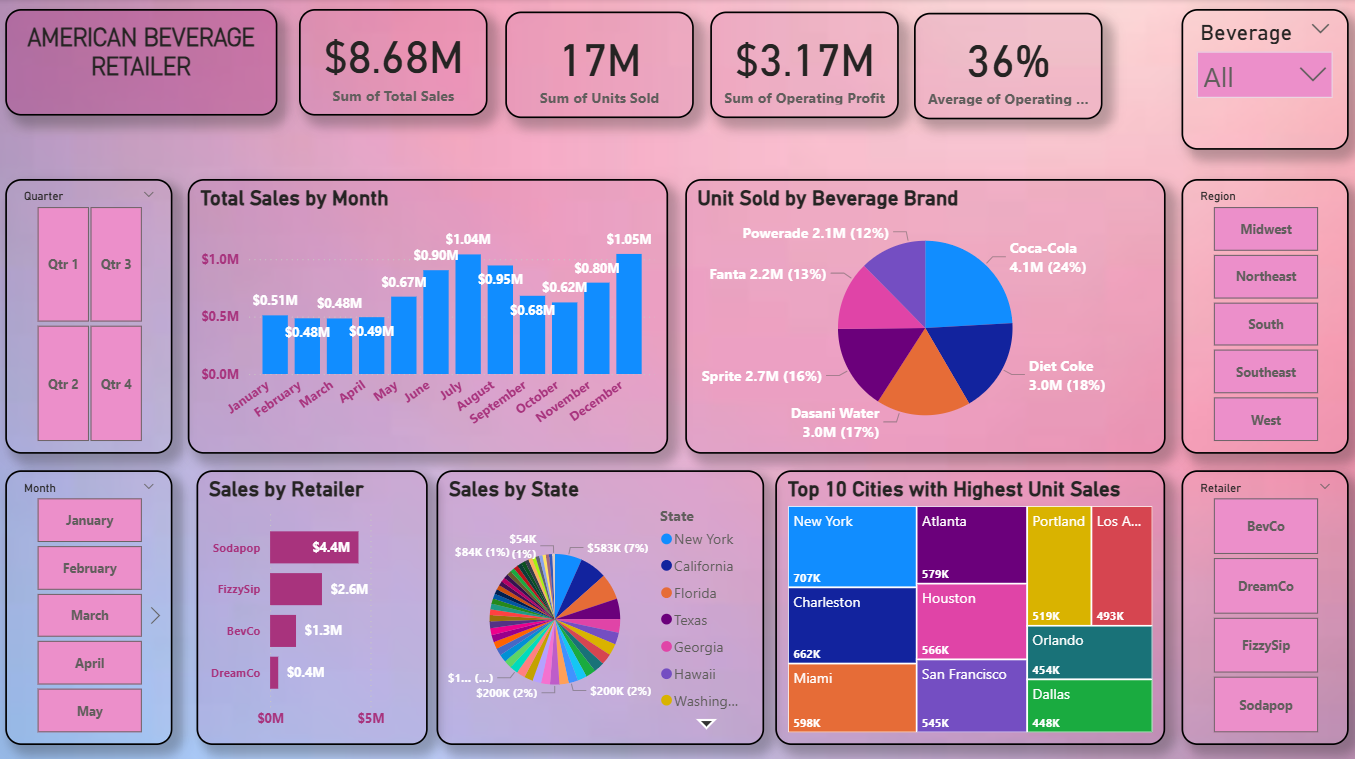

The dashboard page shown, as its layout file describes it:
{"tool":"powerbi","page":{"name":"Page 1","canvas":[1280,720],"ordinal":0},"visuals":[{"type":"textbox","box":[10.5,9.4,255.5,99.6],"z":0},{"type":"slicer","fields":{"Values":["Sheet1.Invoice Date.Variation.Date Hierarchy.Quarter"]},"box":[11,168.8,156.4,258],"z":1000},{"type":"slicer","fields":{"Values":["Sheet1.Invoice Date.Variation.Date Hierarchy.Month"]},"box":[11,441.9,156.4,258],"z":2000},{"type":"slicer","fields":{"Values":["Sheet1.Region"]},"box":[1112.9,168.8,156.4,258],"z":3000},{"type":"slicer","fields":{"Values":["Sheet1.Retailer"]},"box":[1112.9,441.9,156.4,258],"z":4000},{"type":"slicer","fields":{"Values":["Sheet1.Beverage Brand"]},"box":[1112.9,9.6,156.4,131.7],"z":5000},{"type":"card","fields":{"Values":["Sum(Sheet1.Total Sales)"]},"box":[285.9,9.4,177,99.6],"z":5001},{"type":"card","fields":{"Values":["Sum(Sheet1.Units Sold)"]},"box":[479.3,11.7,177,99.6],"z":5002},{"type":"card","fields":{"Values":["Sum(Sheet1.Operating Profit)"]},"box":[671.5,11.7,177,99.6],"z":5003},{"type":"card","fields":{"Values":["Avg(Sheet1.Operating Margin)"]},"box":[862.5,12.9,177,99.6],"z":5004},{"type":"columnChart","title":"Total Sales by Month","fields":{"Category":["Sheet1.Invoice Date.Variation.Date Hierarchy.Month"],"Y":["Sum(Sheet1.Total Sales)"]},"box":[181.6,168.8,450,257.8],"z":5005},{"type":"pieChart","title":"Unit Sold by Beverage Brand","fields":{"Category":["Sheet1.Beverage Brand"],"Y":["Sum(Sheet1.Units Sold)"]},"box":[648.1,168.8,450,257.8],"z":5006},{"type":"clusteredBarChart","title":"Sales by Retailer","fields":{"Y":["Sum(Sheet1.Total Sales)"],"Category":["Sheet1.Retailer"]},"box":[189.8,441.8,216.8,257.8],"z":5007},{"type":"pieChart","title":"Sales by State","fields":{"Y":["Sum(Sheet1.Total Sales)"],"Category":["Sheet1.State"]},"box":[414.9,441.8,307,257.8],"z":5008},{"type":"treemap","title":"Top 10 Cities with Highest Unit Sales","fields":{"Group":["Sheet1.City"],"Values":["Sum(Sheet1.Units Sold)"]},"box":[732.4,441.8,365.6,257.8],"z":5009}]}

Visuals, with their boxes in screenshot pixels (x1, y1, x2, y2), scaled from the page's 1280x720 canvas onto the 1355x759 screenshot:
textbox: BBox(11, 10, 282, 115)
slicer - Sheet1.Invoice Date.Variation.Date Hierarchy.Quarter: BBox(12, 178, 177, 450)
slicer - Sheet1.Invoice Date.Variation.Date Hierarchy.Month: BBox(12, 466, 177, 738)
slicer - Sheet1.Region: BBox(1178, 178, 1344, 450)
slicer - Sheet1.Retailer: BBox(1178, 466, 1344, 738)
slicer - Sheet1.Beverage Brand: BBox(1178, 10, 1344, 149)
card - Sum(Sheet1.Total Sales): BBox(303, 10, 490, 115)
card - Sum(Sheet1.Units Sold): BBox(507, 12, 695, 117)
card - Sum(Sheet1.Operating Profit): BBox(711, 12, 898, 117)
card - Avg(Sheet1.Operating Margin): BBox(913, 14, 1100, 119)
"Total Sales by Month" columnChart: BBox(192, 178, 669, 450)
"Unit Sold by Beverage Brand" pieChart: BBox(686, 178, 1162, 450)
"Sales by Retailer" clusteredBarChart: BBox(201, 466, 430, 737)
"Sales by State" pieChart: BBox(439, 466, 764, 737)
"Top 10 Cities with Highest Unit Sales" treemap: BBox(775, 466, 1162, 737)
